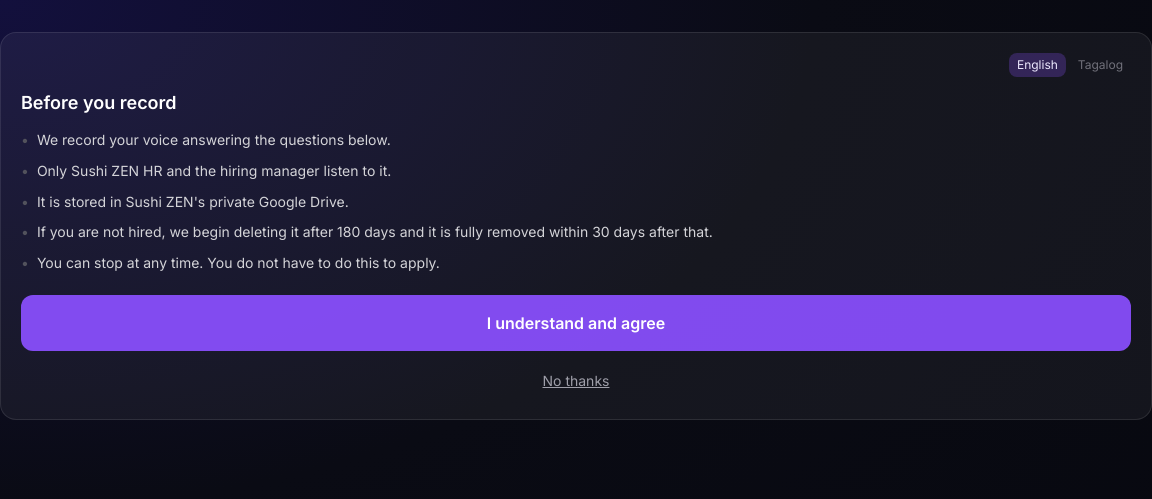
agreeing while the API is restarting › does not move on when the consent did not reach the server
The image size is (1152, 499).
Step 1. Click the button "I understand and agree" → (576, 323), box [21,295,1131,351]
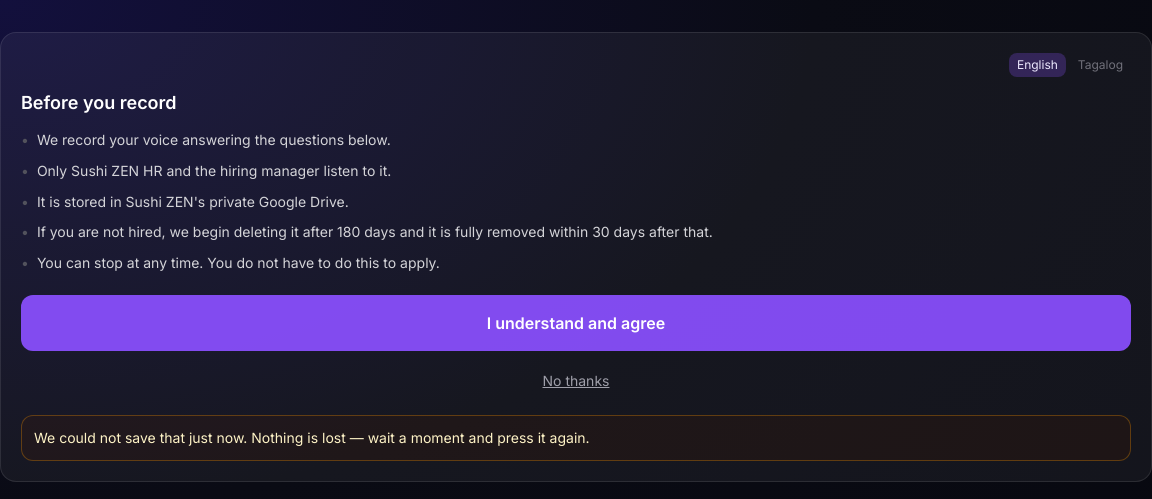
Check: the text "Nothing is lost" is shown, box [34,429,590,446]
